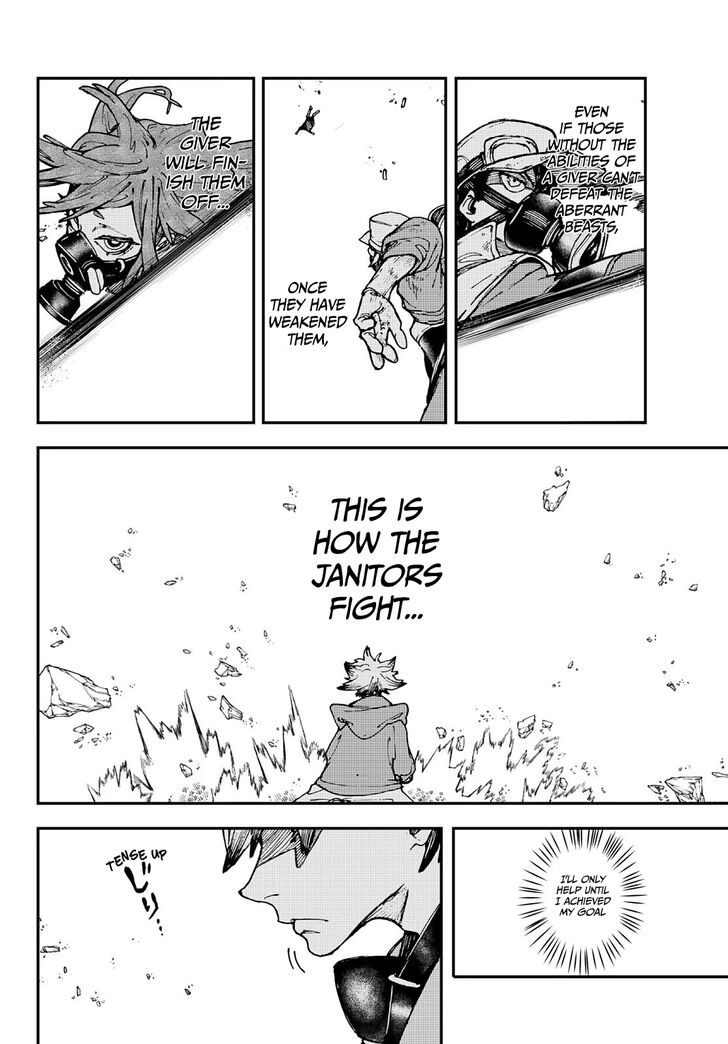bubble: (537, 840, 634, 962)
